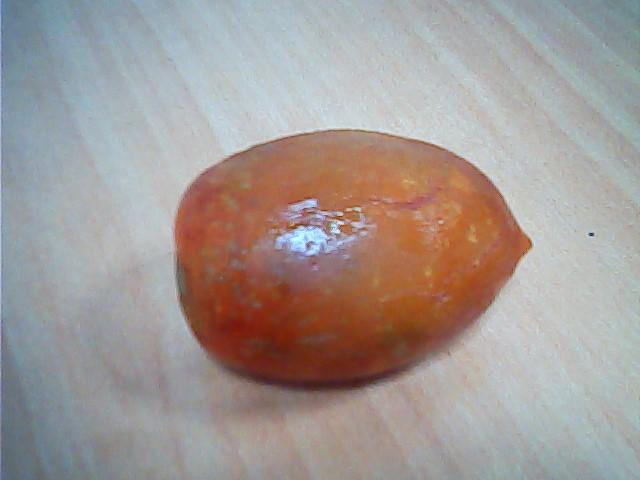defectuoso: (165, 121, 535, 395)
